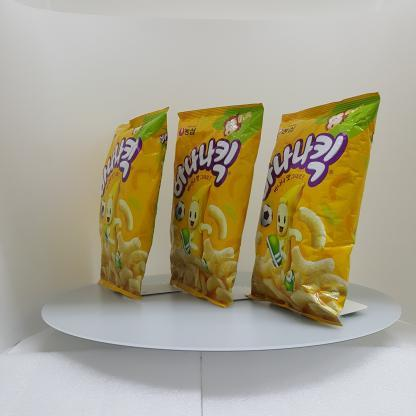Plastic Packaging: (264, 86, 384, 322), (90, 86, 166, 304), (175, 104, 253, 300)
